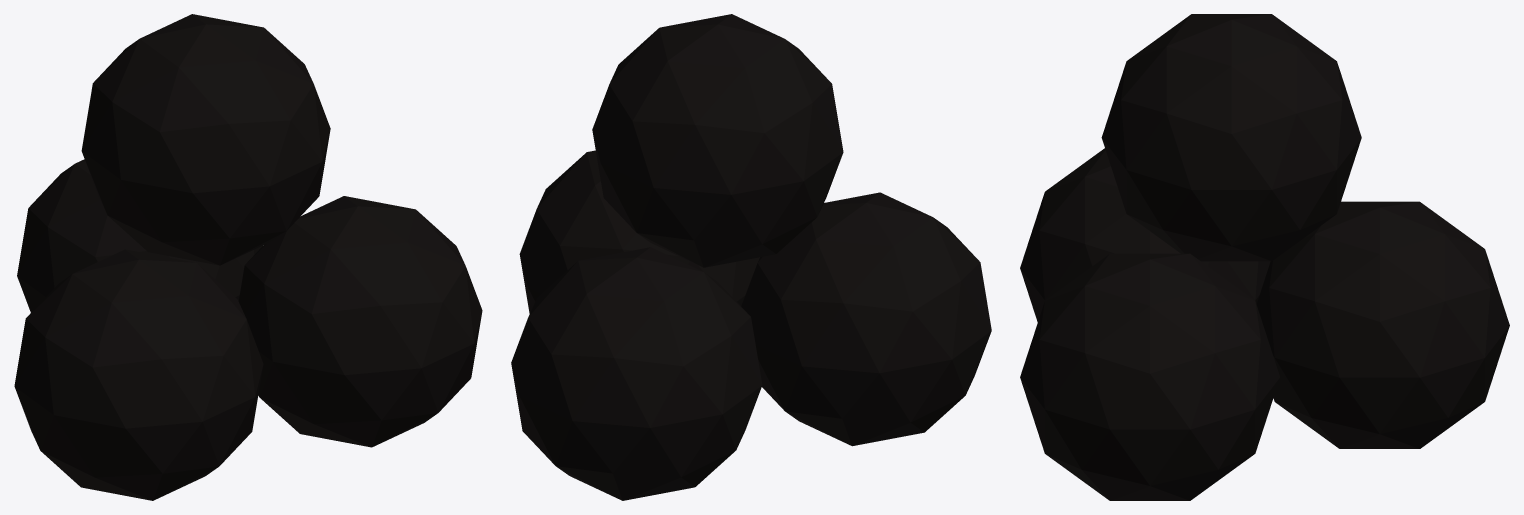
The model's file is Canonball_2.fbx.
3 views of the same model, side by side, from view 1: azimuth 30°, elevation 25°; view 2: azimuth 150°, elevation 25°; view 3: azimuth 270°, elevation 25° (orthographic). The views are drawn at different scales.
Visible parts, largest first — view 1: Canonball_2; view 2: Canonball_2; view 3: Canonball_2.
Boxes of the visible parts, x1,y1,x2,y2 form: Canonball_2: (14,14,482,500); Canonball_2: (511,14,991,500); Canonball_2: (1020,14,1509,500).
Size of the model in its own units: 31.3 by 28.66 by 30.32.
